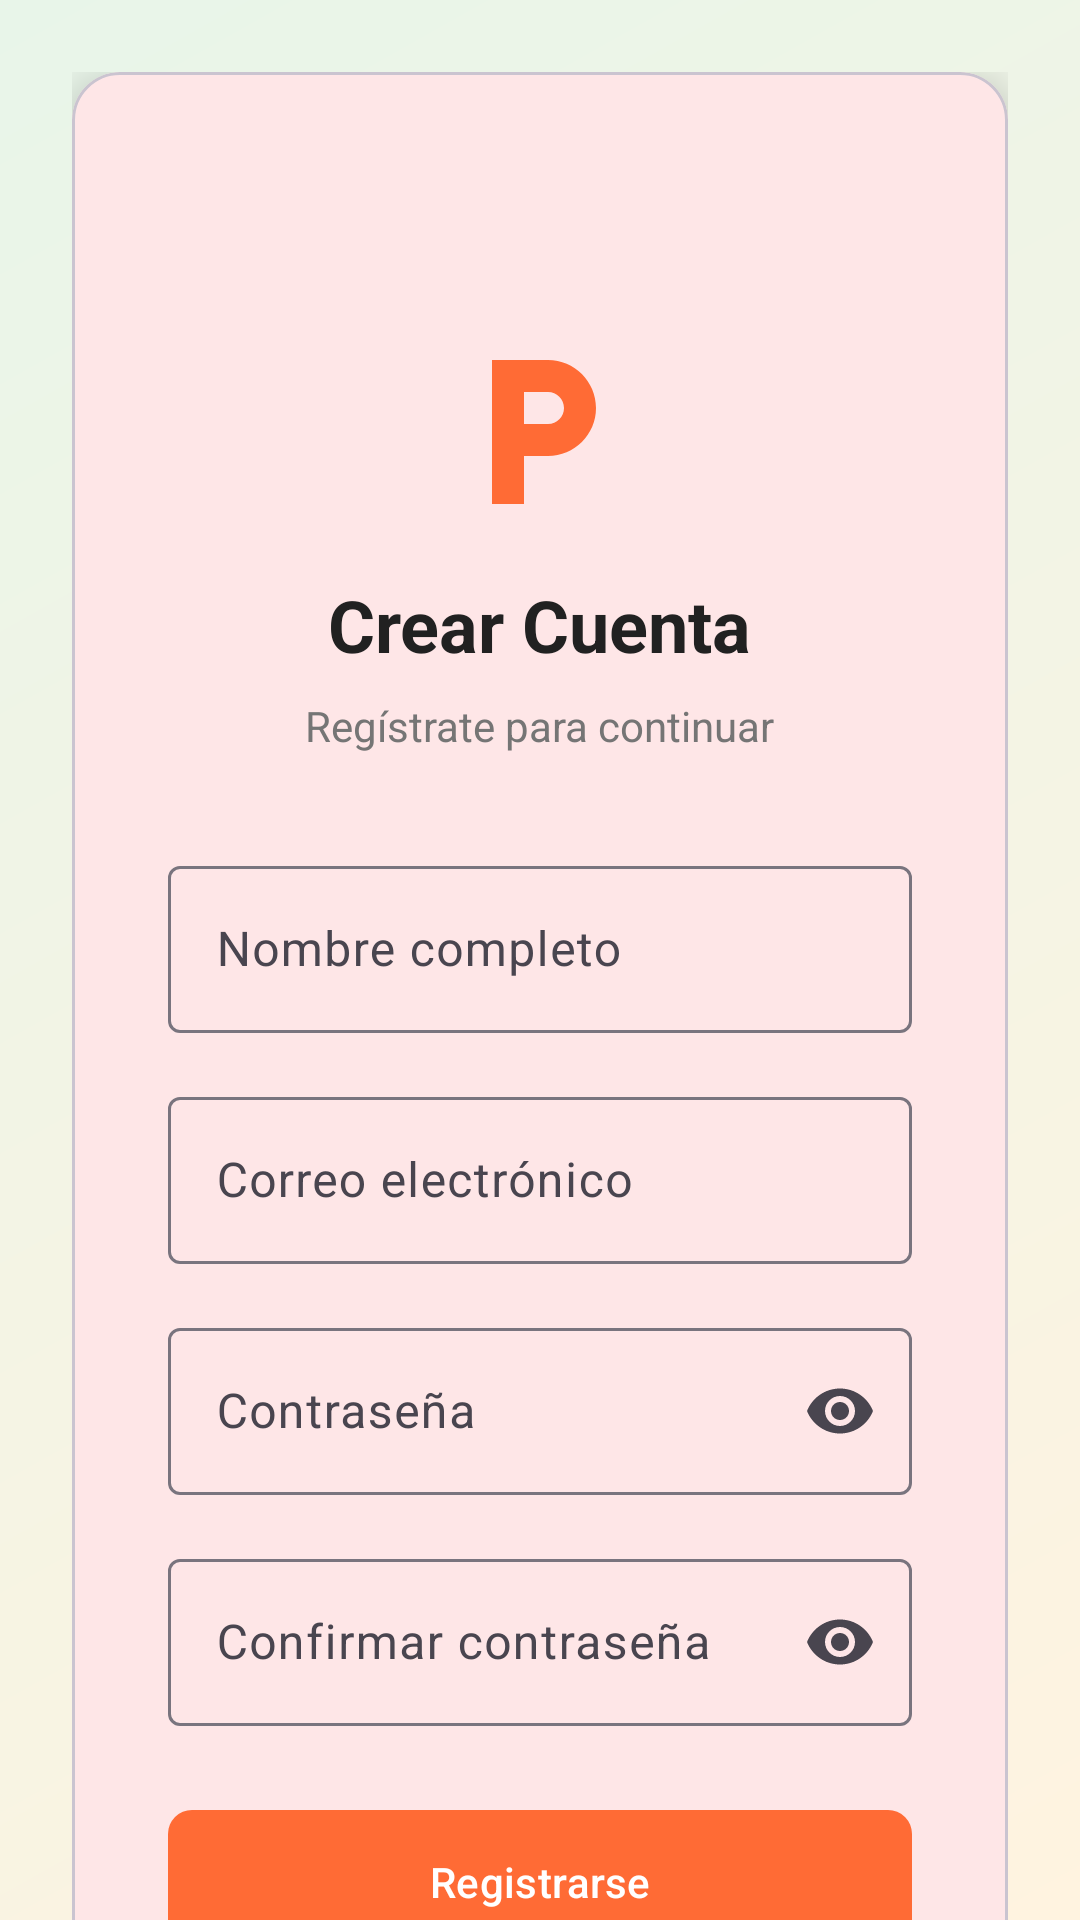

Where to tap for icons on this 1080×1920 app screen, as point (x, y):
parking: point (544, 432)
